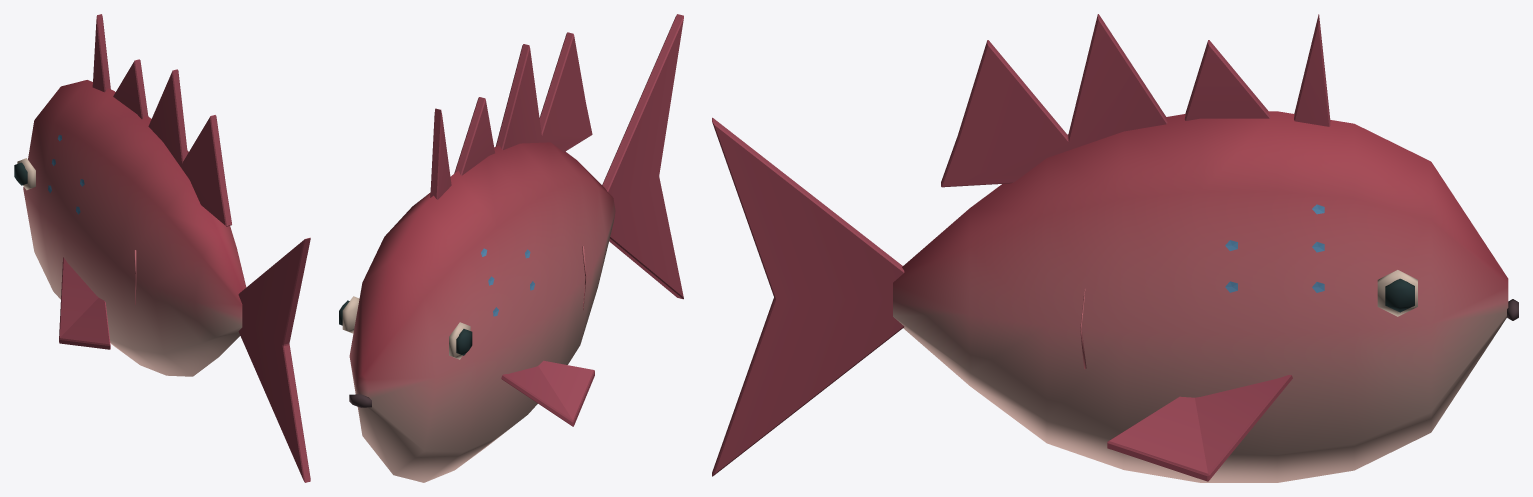
File: fish_red_seabream_low.glb
3 renders of one model, left to right at view 1: azimuth 30°, elevation 25°; view 2: azimuth 150°, elevation 25°; view 3: azimuth 270°, elevation 25°, orthographic. The views are drawn at different scales.
Size of the model in its own units: 0.1303 by 0.2555 by 0.3998.
